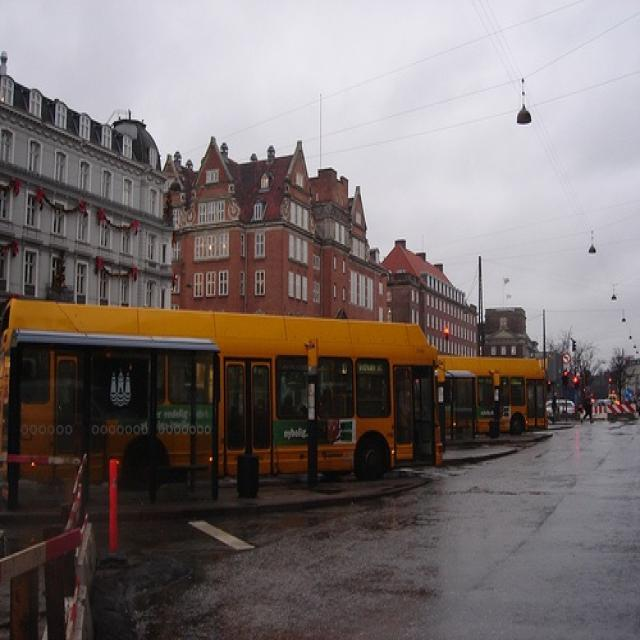bus: (0, 288, 452, 500), (439, 356, 547, 438)
